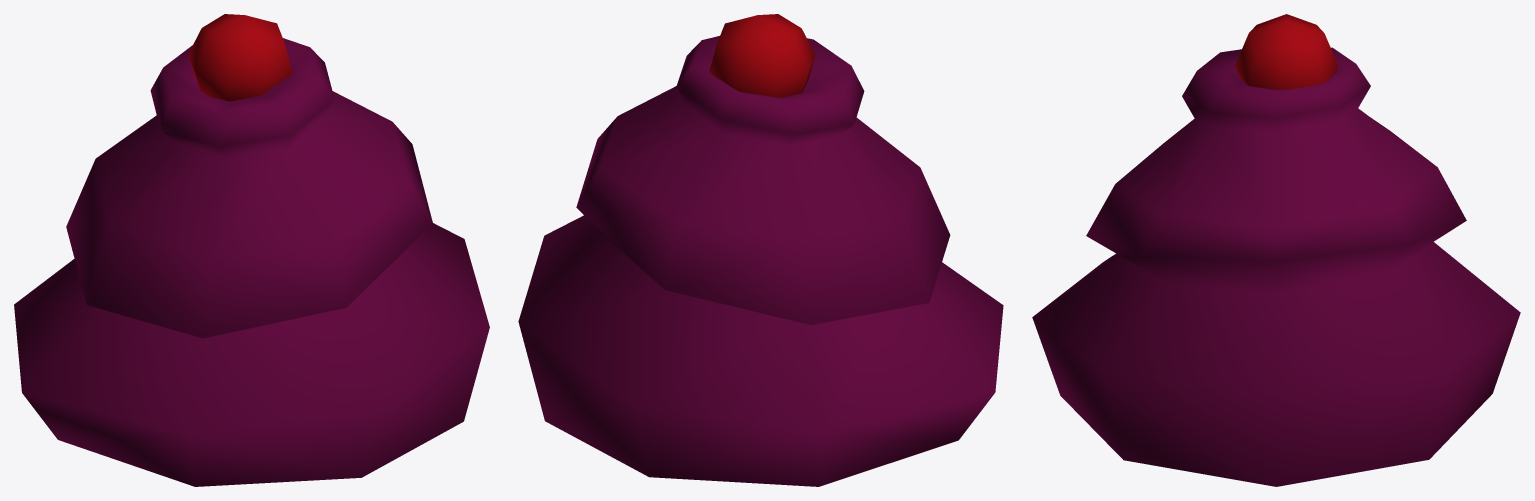
Rendered from Topping03.fbx.
3 renders of one model, left to right at view 1: azimuth 30°, elevation 25°; view 2: azimuth 150°, elevation 25°; view 3: azimuth 270°, elevation 25°, orthographic. The views are drawn at different scales.
Visible parts, largest first — view 1: Topping03; view 2: Topping03; view 3: Topping03.
Boxes of the visible parts, x1,y1,x2,y2 form: Topping03: (14, 14, 489, 486); Topping03: (518, 14, 1003, 486); Topping03: (1032, 14, 1520, 486).
Bounding box in the file's own units: 0.7815 × 0.6397 × 0.7582.
